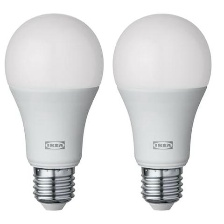light_bulb: (107, 8, 216, 214), (4, 8, 107, 213)
